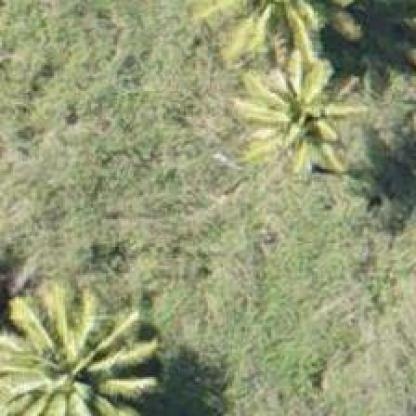coconut tree: (187, 1, 372, 175), (0, 280, 164, 415)
